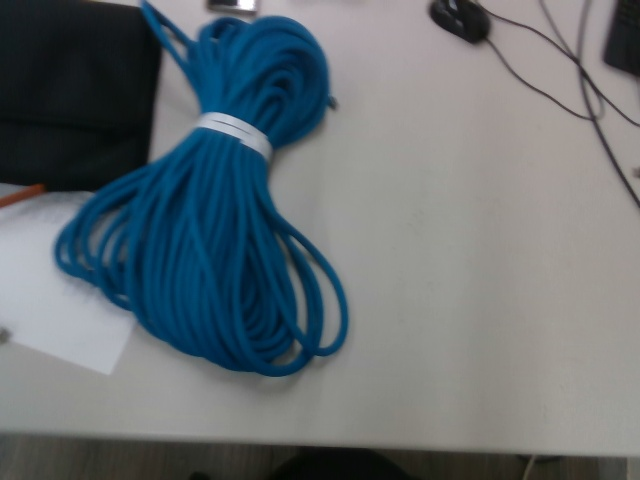rope: (51, 1, 353, 379)
